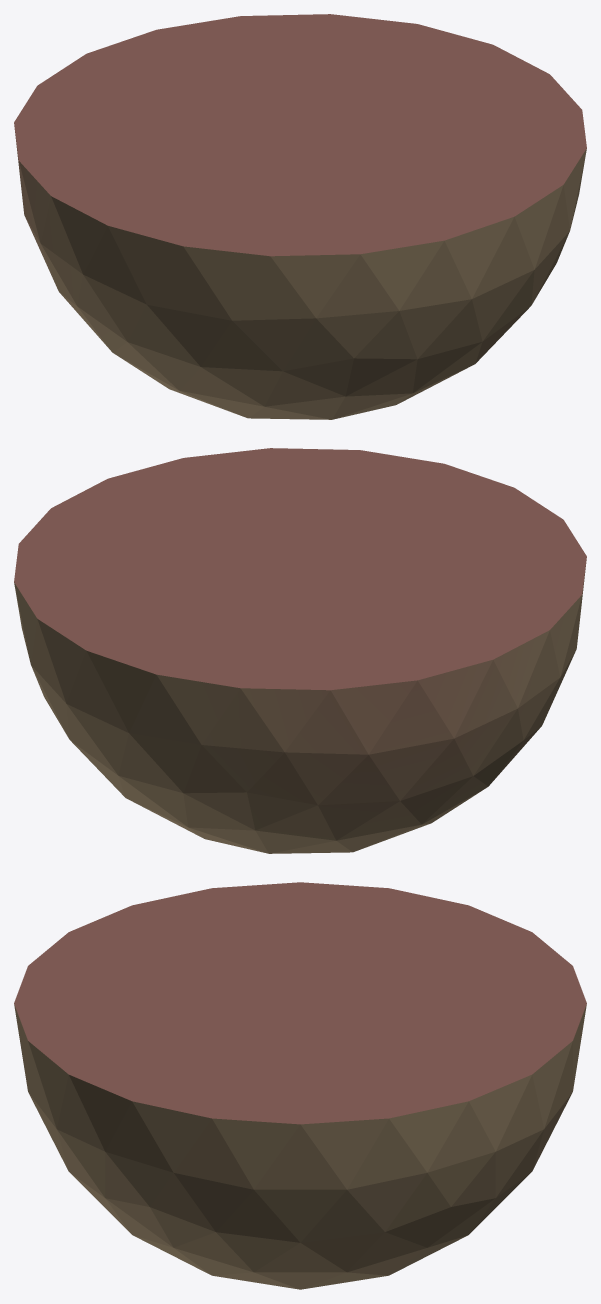
The model's file is terra 7.fbx.
3 renders of one model, top to bottom at view 1: azimuth 30°, elevation 25°; view 2: azimuth 150°, elevation 25°; view 3: azimuth 270°, elevation 25°, orthographic.
Visible parts, largest first — view 1: terra main; view 2: terra main; view 3: terra main.
Part boxes in pixels (x1,y1,x2,y2): terra main: (14,14,586,419); terra main: (14,448,586,853); terra main: (14,882,586,1289).
Size of the model in its own units: 3559 by 1780 by 3559.
